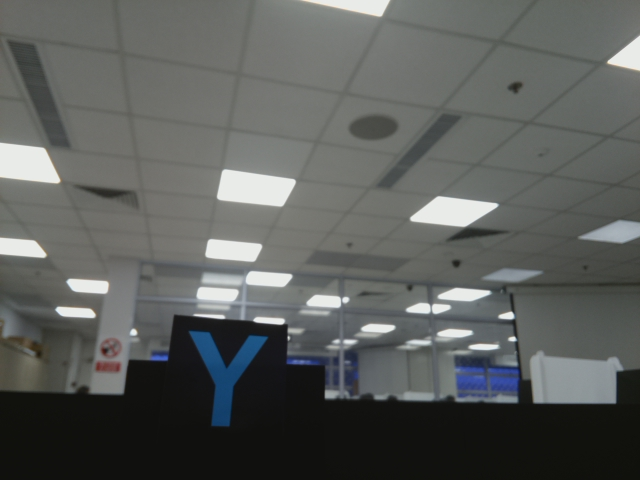y: (182, 321, 274, 436)
